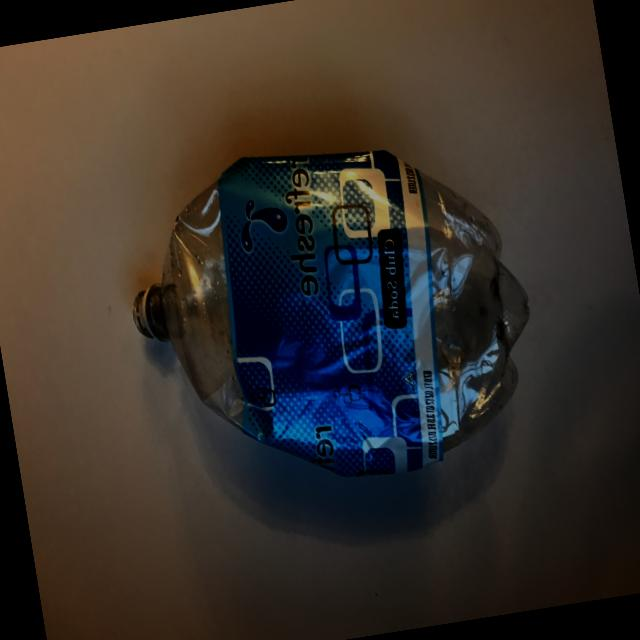Plastic: (102, 104, 571, 545)
